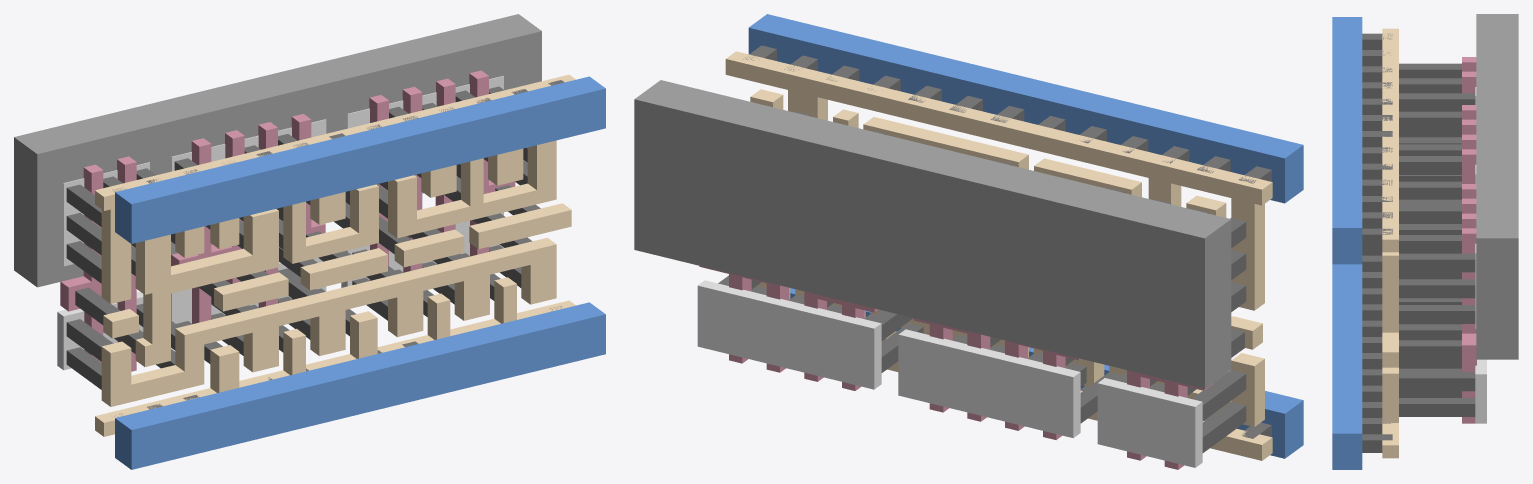
Rendered from sky130_fd_sc_hd__o41ai_2.gds.gltf.
3 renders of one model, left to right at view 1: azimuth 30°, elevation 25°; view 2: azimuth 150°, elevation 25°; view 3: azimuth 270°, elevation 25°, orthographic. The views are drawn at different scales.
Visible parts, largest first — view 1: sky130_fd_sc_hd__o41ai_2_li1, sky130_fd_sc_hd__o41ai_2_met1, sky130_fd_sc_hd__o41ai_2_nwell, sky130_fd_sc_hd__o41ai_2_licon, sky130_fd_sc_hd__o41ai_2_poly, sky130_fd_sc_hd__o41ai_2_diff, sky130_fd_sc_hd__o41ai_2_mcon; view 2: sky130_fd_sc_hd__o41ai_2_nwell, sky130_fd_sc_hd__o41ai_2_diff, sky130_fd_sc_hd__o41ai_2_li1, sky130_fd_sc_hd__o41ai_2_met1, sky130_fd_sc_hd__o41ai_2_licon, sky130_fd_sc_hd__o41ai_2_poly, sky130_fd_sc_hd__o41ai_2_mcon; view 3: sky130_fd_sc_hd__o41ai_2_licon, sky130_fd_sc_hd__o41ai_2_nwell, sky130_fd_sc_hd__o41ai_2_met1, sky130_fd_sc_hd__o41ai_2_mcon, sky130_fd_sc_hd__o41ai_2_li1, sky130_fd_sc_hd__o41ai_2_poly, sky130_fd_sc_hd__o41ai_2_diff.
Part boxes in pixels (x1=…): sky130_fd_sc_hd__o41ai_2_li1: x1=95, y1=74, x2=575, y2=436; sky130_fd_sc_hd__o41ai_2_met1: x1=115, y1=76, x2=605, y2=469; sky130_fd_sc_hd__o41ai_2_nwell: x1=14, y1=14, x2=541, y2=287; sky130_fd_sc_hd__o41ai_2_licon: x1=66, y1=86, x2=540, y2=389; sky130_fd_sc_hd__o41ai_2_poly: x1=60, y1=70, x2=515, y2=371; sky130_fd_sc_hd__o41ai_2_diff: x1=57, y1=76, x2=503, y2=370; sky130_fd_sc_hd__o41ai_2_mcon: x1=112, y1=80, x2=564, y2=416; sky130_fd_sc_hd__o41ai_2_nwell: x1=634, y1=80, x2=1231, y2=388; sky130_fd_sc_hd__o41ai_2_diff: x1=697, y1=280, x2=1202, y2=467; sky130_fd_sc_hd__o41ai_2_li1: x1=725, y1=51, x2=1272, y2=460; sky130_fd_sc_hd__o41ai_2_met1: x1=748, y1=14, x2=1303, y2=458; sky130_fd_sc_hd__o41ai_2_licon: x1=718, y1=111, x2=1246, y2=452; sky130_fd_sc_hd__o41ai_2_poly: x1=699, y1=266, x2=1213, y2=469; sky130_fd_sc_hd__o41ai_2_mcon: x1=743, y1=45, x2=1271, y2=438; sky130_fd_sc_hd__o41ai_2_licon: x1=1399, y1=63, x2=1475, y2=416; sky130_fd_sc_hd__o41ai_2_nwell: x1=1476, y1=14, x2=1518, y2=359; sky130_fd_sc_hd__o41ai_2_met1: x1=1332, y1=17, x2=1362, y2=469; sky130_fd_sc_hd__o41ai_2_mcon: x1=1362, y1=33, x2=1392, y2=452; sky130_fd_sc_hd__o41ai_2_li1: x1=1382, y1=28, x2=1398, y2=458; sky130_fd_sc_hd__o41ai_2_poly: x1=1462, y1=57, x2=1476, y2=423; sky130_fd_sc_hd__o41ai_2_diff: x1=1475, y1=87, x2=1486, y2=423.
Bounding box in the file's own units: 6.36 × 3.2 × 2.24.
